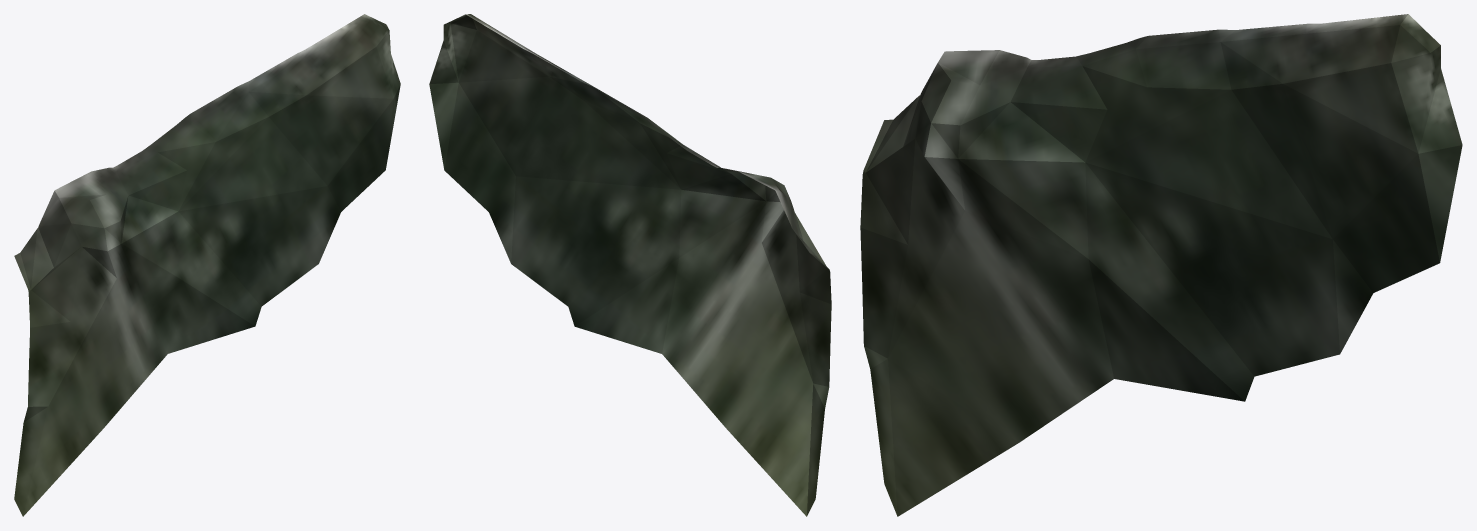
3 views of the same model, side by side, from view 1: azimuth 30°, elevation 25°; view 2: azimuth 150°, elevation 25°; view 3: azimuth 330°, elevation 25° (orthographic). The views are drawn at different scales.
Size of the model in its own units: 1.61 by 1.67 by 0.2406.
Materials: 1 (1 with a texture image).
